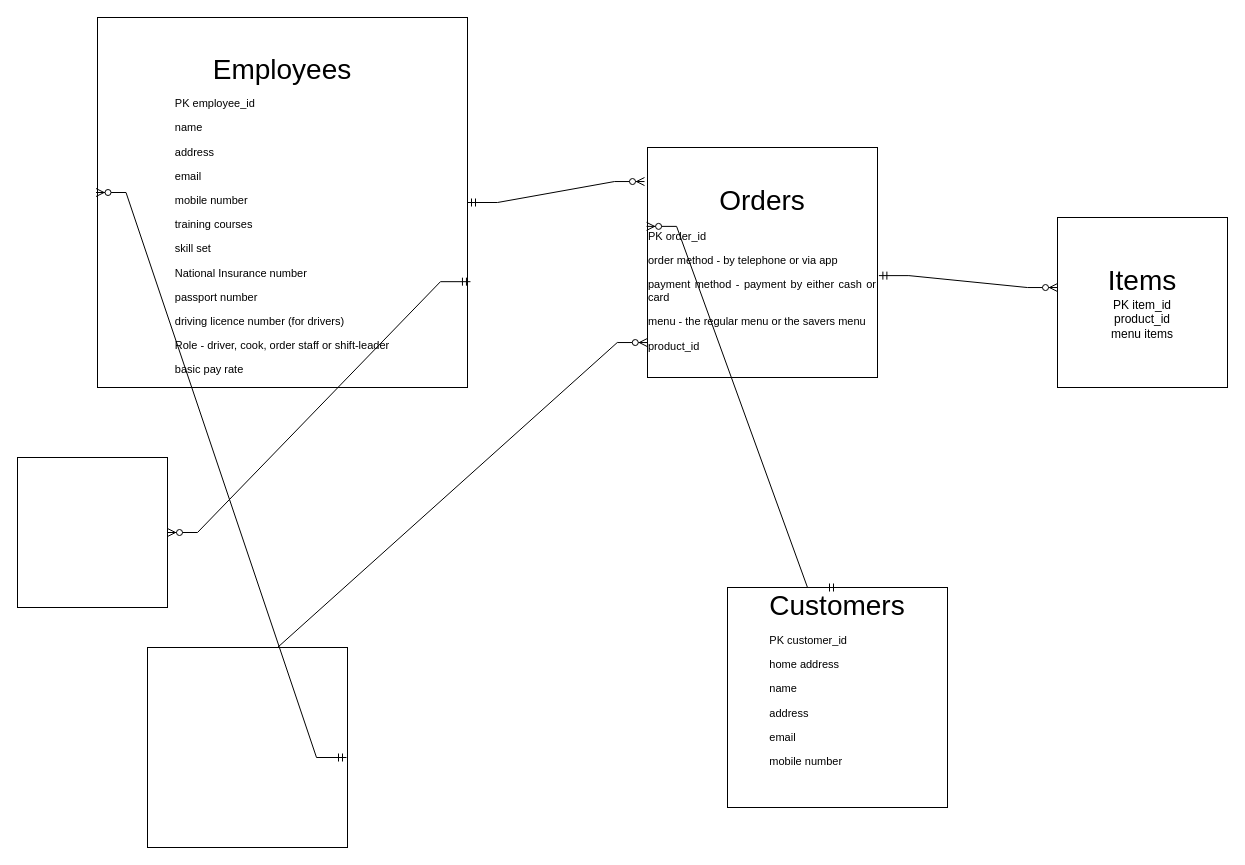
This 1245x865 diagram has some shape labels left out. Here are the shapes that lost their labels. From the top down, the centre of each, then its label:
the point at 92,532: Shifts shift_id shift date shift type - breakfast/dinner
the point at 247,747: Outlets PK outlet_id Outlet address
